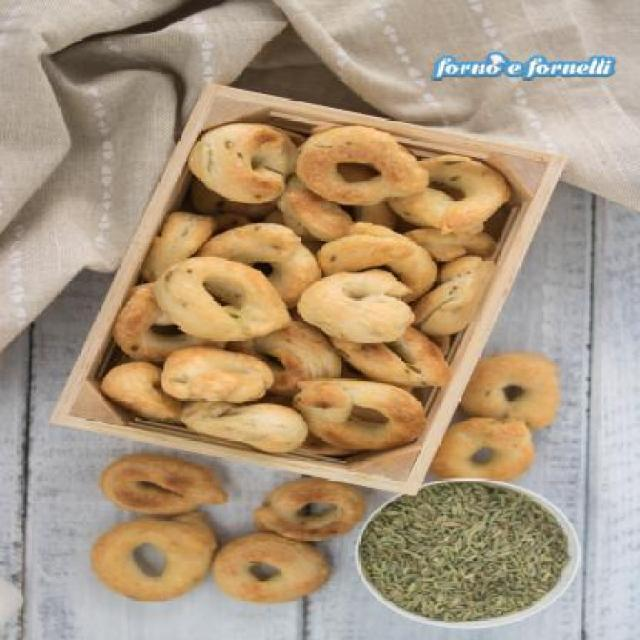Taralli: (104, 117, 558, 485), (88, 459, 364, 616)
